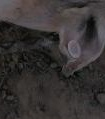text: (63, 36, 86, 62)
